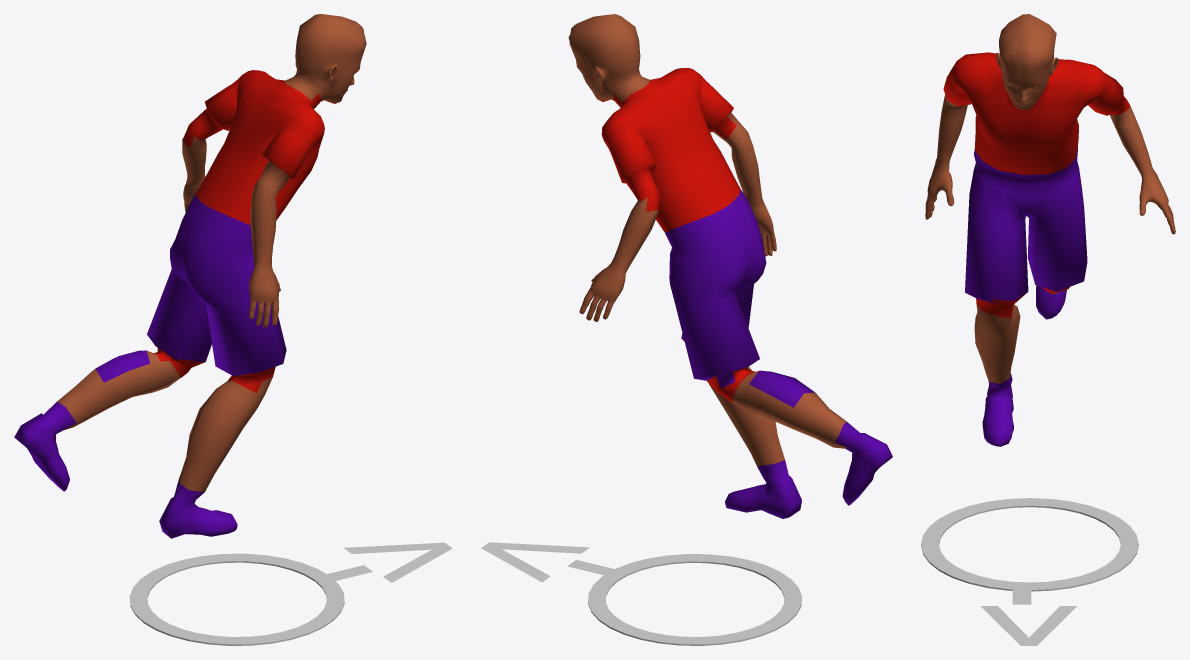
The model's file is player_000004.obj.
3 views of the same model, side by side, from view 1: azimuth 30°, elevation 25°; view 2: azimuth 150°, elevation 25°; view 3: azimuth 270°, elevation 25° (orthographic).
Visible parts, largest first — view 1: soccerplayer.002_mesh.003, Circle, Text.001_Mesh.001; view 2: soccerplayer.002_mesh.003, Circle, Text.001_Mesh.001; view 3: soccerplayer.002_mesh.003, Circle, Text.001_Mesh.001.
Boxes of the visible parts, bbox=[...] form: soccerplayer.002_mesh.003: bbox=[14, 14, 366, 538]; Circle: bbox=[129, 553, 344, 645]; Text.001_Mesh.001: bbox=[323, 542, 452, 582]; soccerplayer.002_mesh.003: bbox=[568, 14, 892, 518]; Circle: bbox=[588, 554, 801, 645]; Text.001_Mesh.001: bbox=[481, 542, 617, 582]; soccerplayer.002_mesh.003: bbox=[925, 14, 1175, 446]; Circle: bbox=[921, 498, 1138, 591]; Text.001_Mesh.001: bbox=[981, 584, 1076, 645].
Size of the model in its own units: 2.43 by 3.16 by 1.27.
